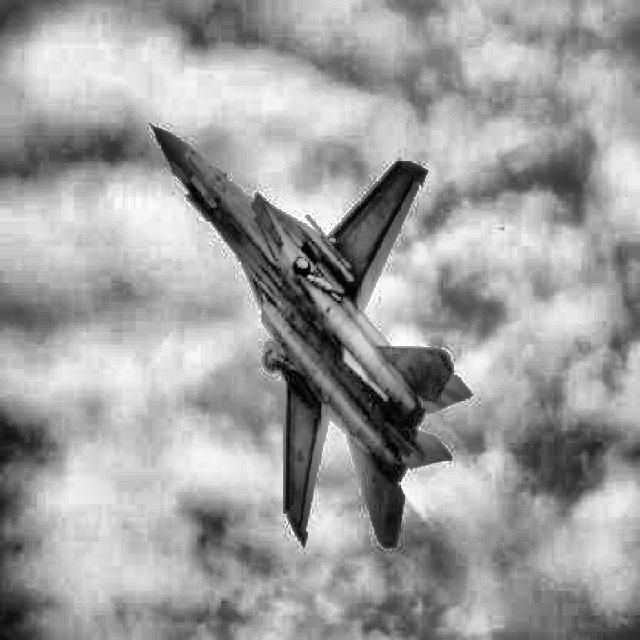F14: (149, 122, 473, 548)
